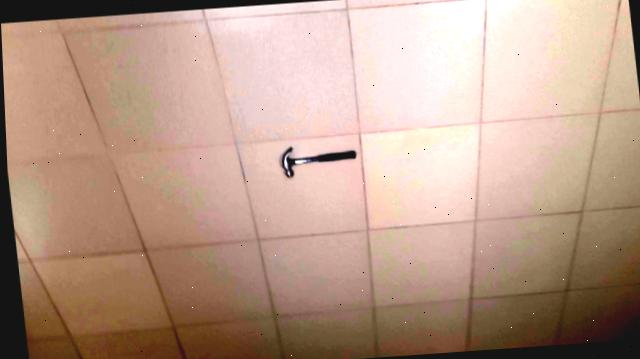hammer: (270, 138, 356, 184)
